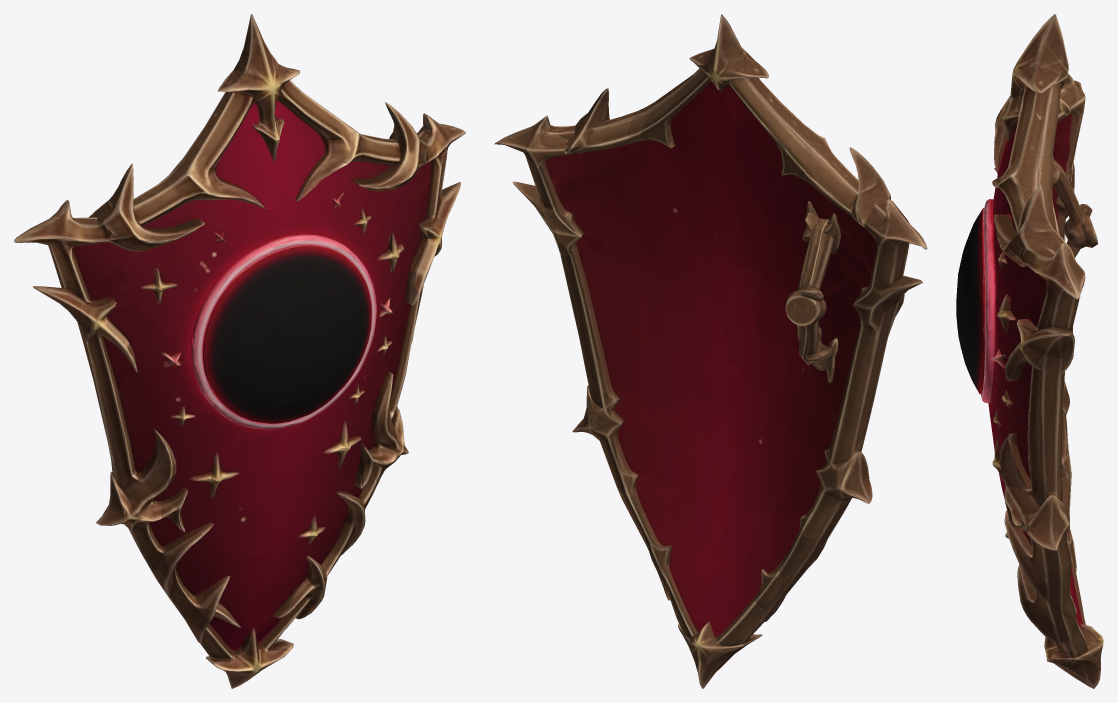
Rendered from cc-shield-raw.glb.
3 renders of one model, left to right at view 1: azimuth 30°, elevation 25°; view 2: azimuth 150°, elevation 25°; view 3: azimuth 270°, elevation 25°, orthographic. The views are drawn at different scales.
Visible parts, largest first — view 1: Mesh_0; view 2: Mesh_0; view 3: Mesh_0.
Boxes of the visible parts, x1,y1,x2,y2 form: Mesh_0: (14,14,465,688); Mesh_0: (494,14,927,688); Mesh_0: (956,14,1103,688).
Bounding box in the file's own units: 1.3 × 1.9 × 0.3762.
Materials: 1 (1 with a texture image).
